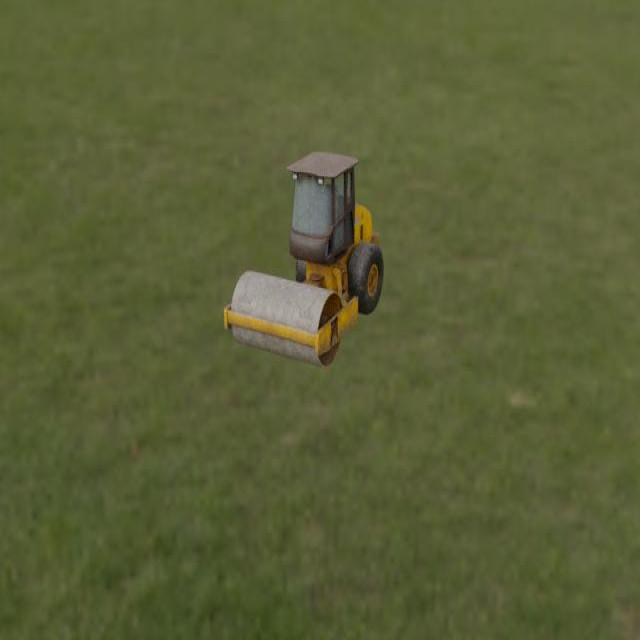Roller: (223, 151, 384, 368)
